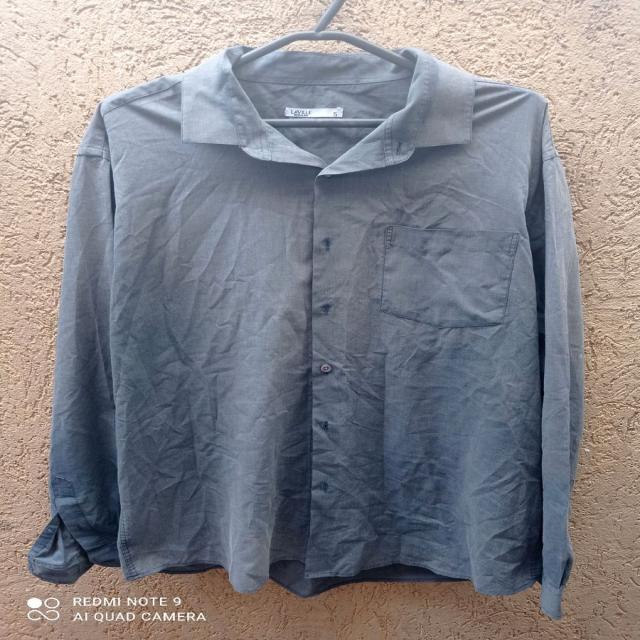long sleeve shirt: (28, 32, 591, 624)
